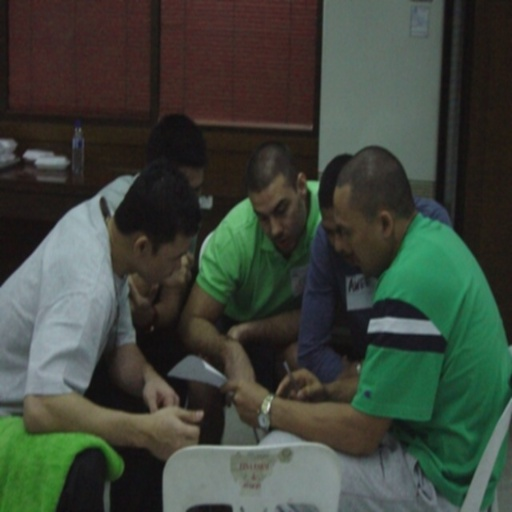hand: (115, 386, 205, 464), (217, 377, 269, 425), (271, 366, 327, 405), (128, 278, 160, 329), (140, 371, 177, 412), (161, 252, 195, 288), (224, 348, 256, 380)
